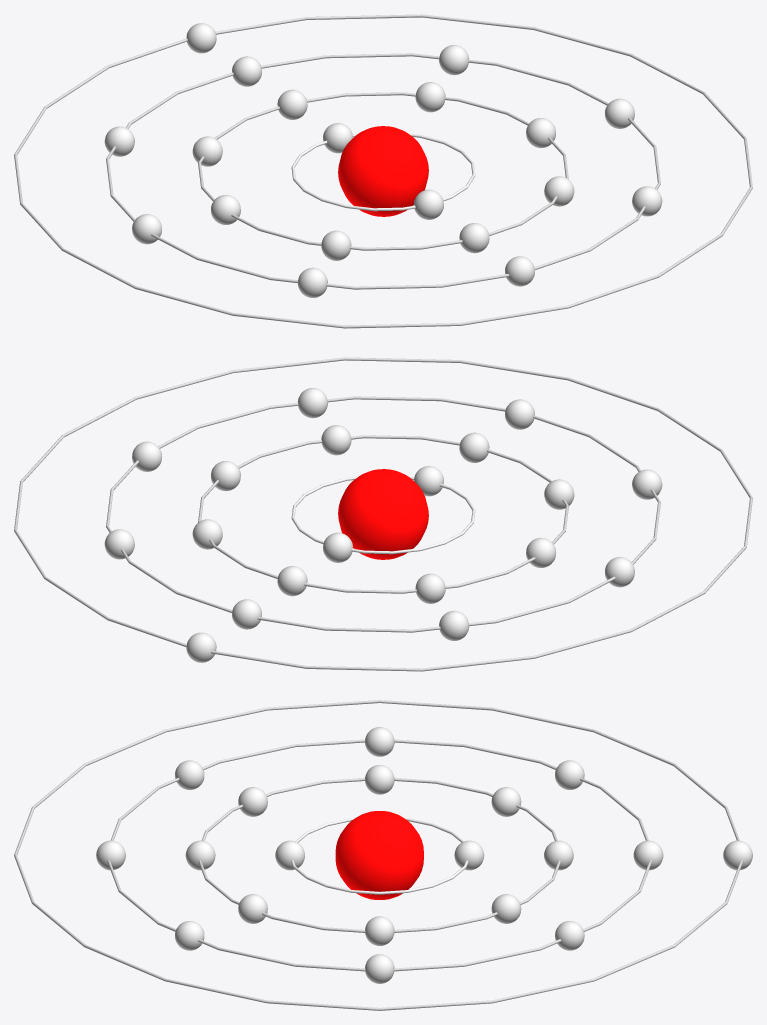
File: K_v2_exp1_test2.glb
3 renders of one model, top to bottom at view 1: azimuth 30°, elevation 25°; view 2: azimuth 150°, elevation 25°; view 3: azimuth 270°, elevation 25°, orthographic.
Visible parts, largest first — view 1: Nucleus, ring4, ring3, ring2, ring1, Electron1, Electron10, Electron3, Electron19, Electron6, Electron11, Electron9 (+12 smaller); view 2: Nucleus, ring4, ring3, ring2, ring1, Electron2, Electron11, Electron5, Electron18, Electron10, Electron4, Electron15 (+12 smaller); view 3: Nucleus, ring4, ring3, ring2, ring1, Electron17, Electron7, Electron8, Electron16, Electron3, Electron2, Electron13 (+12 smaller).
Part boxes in pixels (box(x1,y1,x2,y2)): Nucleus: box(338, 126, 428, 216); ring4: box(14, 14, 752, 328); ring3: box(106, 53, 660, 289); ring2: box(198, 92, 568, 250); ring1: box(291, 133, 475, 211); Electron1: box(415, 82, 445, 112); Electron10: box(277, 89, 307, 119); Electron3: box(321, 230, 351, 260); Electron19: box(186, 23, 216, 53); Electron6: box(232, 56, 261, 86); Electron11: box(459, 223, 489, 253); Electron9: box(414, 189, 443, 219); Nucleus: box(338, 469, 428, 559); ring4: box(14, 357, 752, 671); ring3: box(106, 396, 660, 632); ring2: box(198, 435, 568, 593); ring1: box(291, 476, 475, 554); Electron2: box(321, 425, 351, 455); Electron11: box(459, 432, 489, 462); Electron5: box(415, 573, 445, 603); Electron18: box(505, 399, 534, 429); Electron10: box(277, 566, 307, 596); Electron4: box(323, 532, 352, 562); Electron15: box(297, 388, 327, 418); Nucleus: box(335, 811, 423, 899); ring4: box(14, 700, 743, 1010); ring3: box(107, 739, 651, 971); ring2: box(198, 778, 560, 932); ring1: box(291, 817, 468, 894); Electron17: box(365, 727, 394, 756); Electron7: box(365, 916, 394, 945); Electron8: box(365, 765, 394, 794); Electron16: box(365, 954, 394, 983); Electron3: box(238, 787, 267, 816); Electron2: box(238, 894, 267, 923); Electron13: box(175, 760, 204, 789).
Bounding box in the file's own units: 0.245 × 0.03 × 0.2475.
